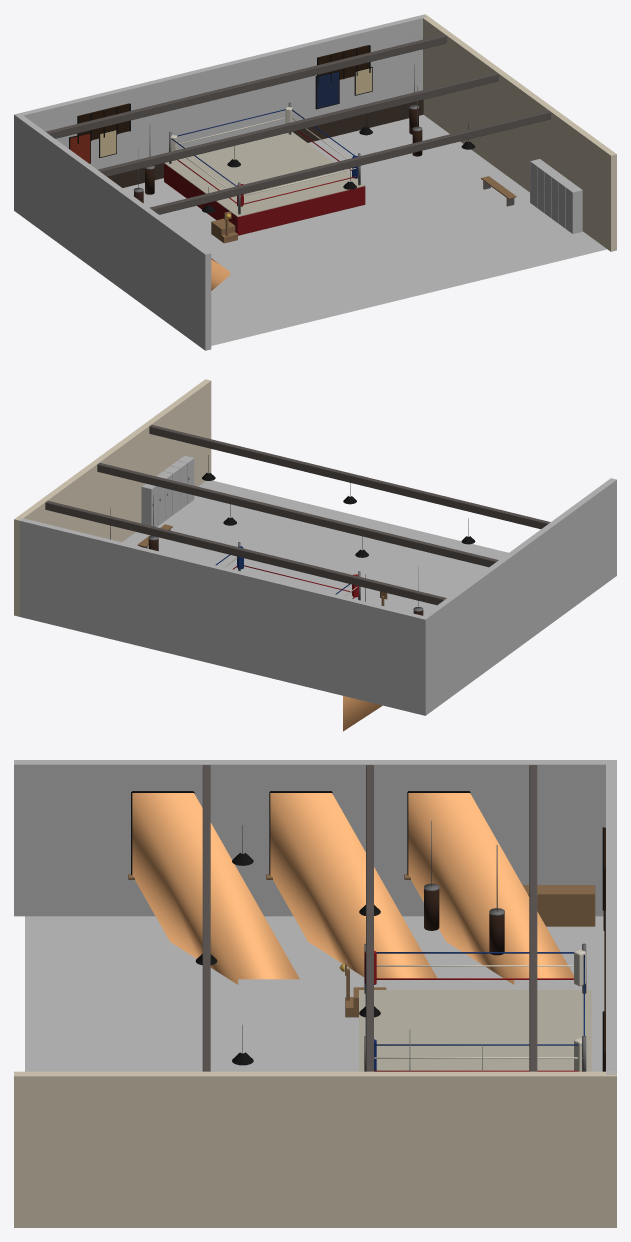
File: gym.glb
3 renders of one model, top to bottom at view 1: azimuth 30°, elevation 25°; view 2: azimuth 150°, elevation 25°; view 3: azimuth 270°, elevation 25°, orthographic. The views are drawn at different scales.
Parts seen in each view (by area): view 1: gym; view 2: gym; view 3: gym.
Part boxes in pixels (<box>): gym: <box>14,14,616,350</box>; gym: <box>14,379,616,731</box>; gym: <box>14,760,616,1227</box>.
Bounding box in the file's own units: 20.6 × 6.93 × 16.6.
